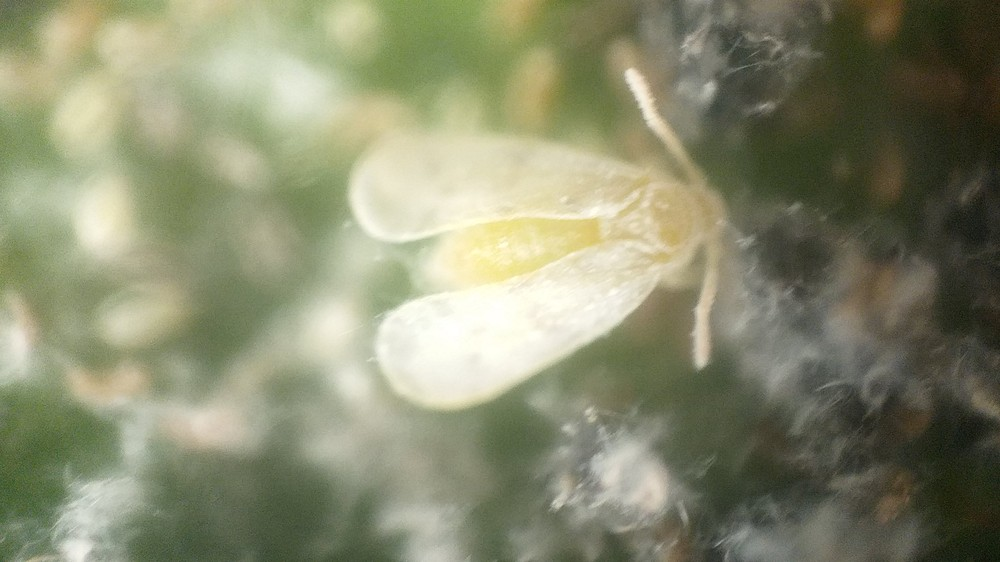Mosca Blanca: (319, 60, 758, 427)
